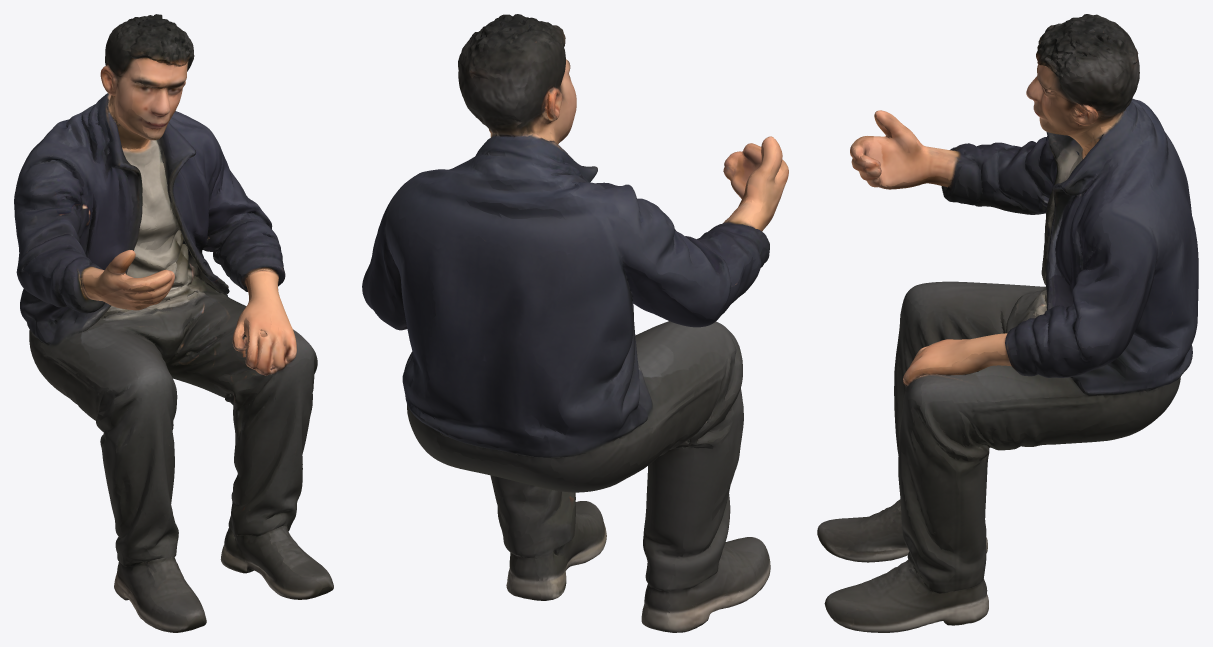
Rendered from zhou-recovery.glb.
The picture shows the model from 3 angles, left to right: view 1: azimuth 30°, elevation 25°; view 2: azimuth 150°, elevation 25°; view 3: azimuth 270°, elevation 25°; orthographic projection. The views are drawn at different scales.
Visible parts, largest first — view 1: geometry_0; view 2: geometry_0; view 3: geometry_0.
Boxes of the visible parts, left/top/right/bottom form: geometry_0: left=14, top=14, right=333, bottom=632; geometry_0: left=362, top=14, right=788, bottom=632; geometry_0: left=817, top=14, right=1198, bottom=632.
Bounding box in the file's own units: 0.5588 × 1 × 0.6093.
Materials: 1 (1 with a texture image).
